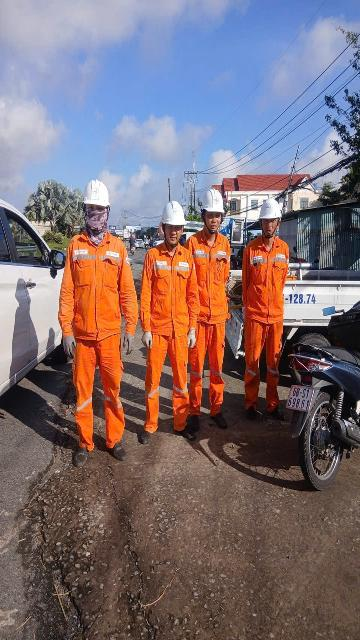gloves: (60, 333, 81, 362), (118, 332, 140, 358), (142, 328, 157, 349), (187, 329, 196, 349)
helmet: (76, 171, 114, 212), (156, 199, 191, 232), (202, 180, 232, 216), (252, 194, 287, 224)
shoes: (100, 441, 133, 467), (132, 424, 158, 446), (69, 440, 87, 469), (173, 426, 195, 447), (210, 410, 228, 435), (184, 411, 203, 434), (270, 405, 292, 422), (246, 400, 262, 423)
